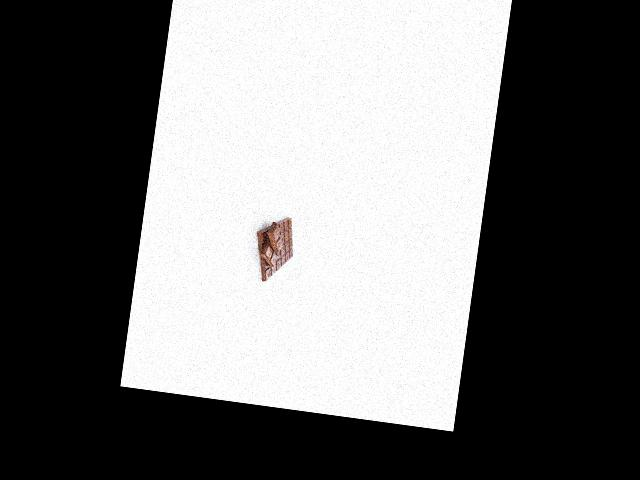chocolate: (247, 212, 301, 286)
